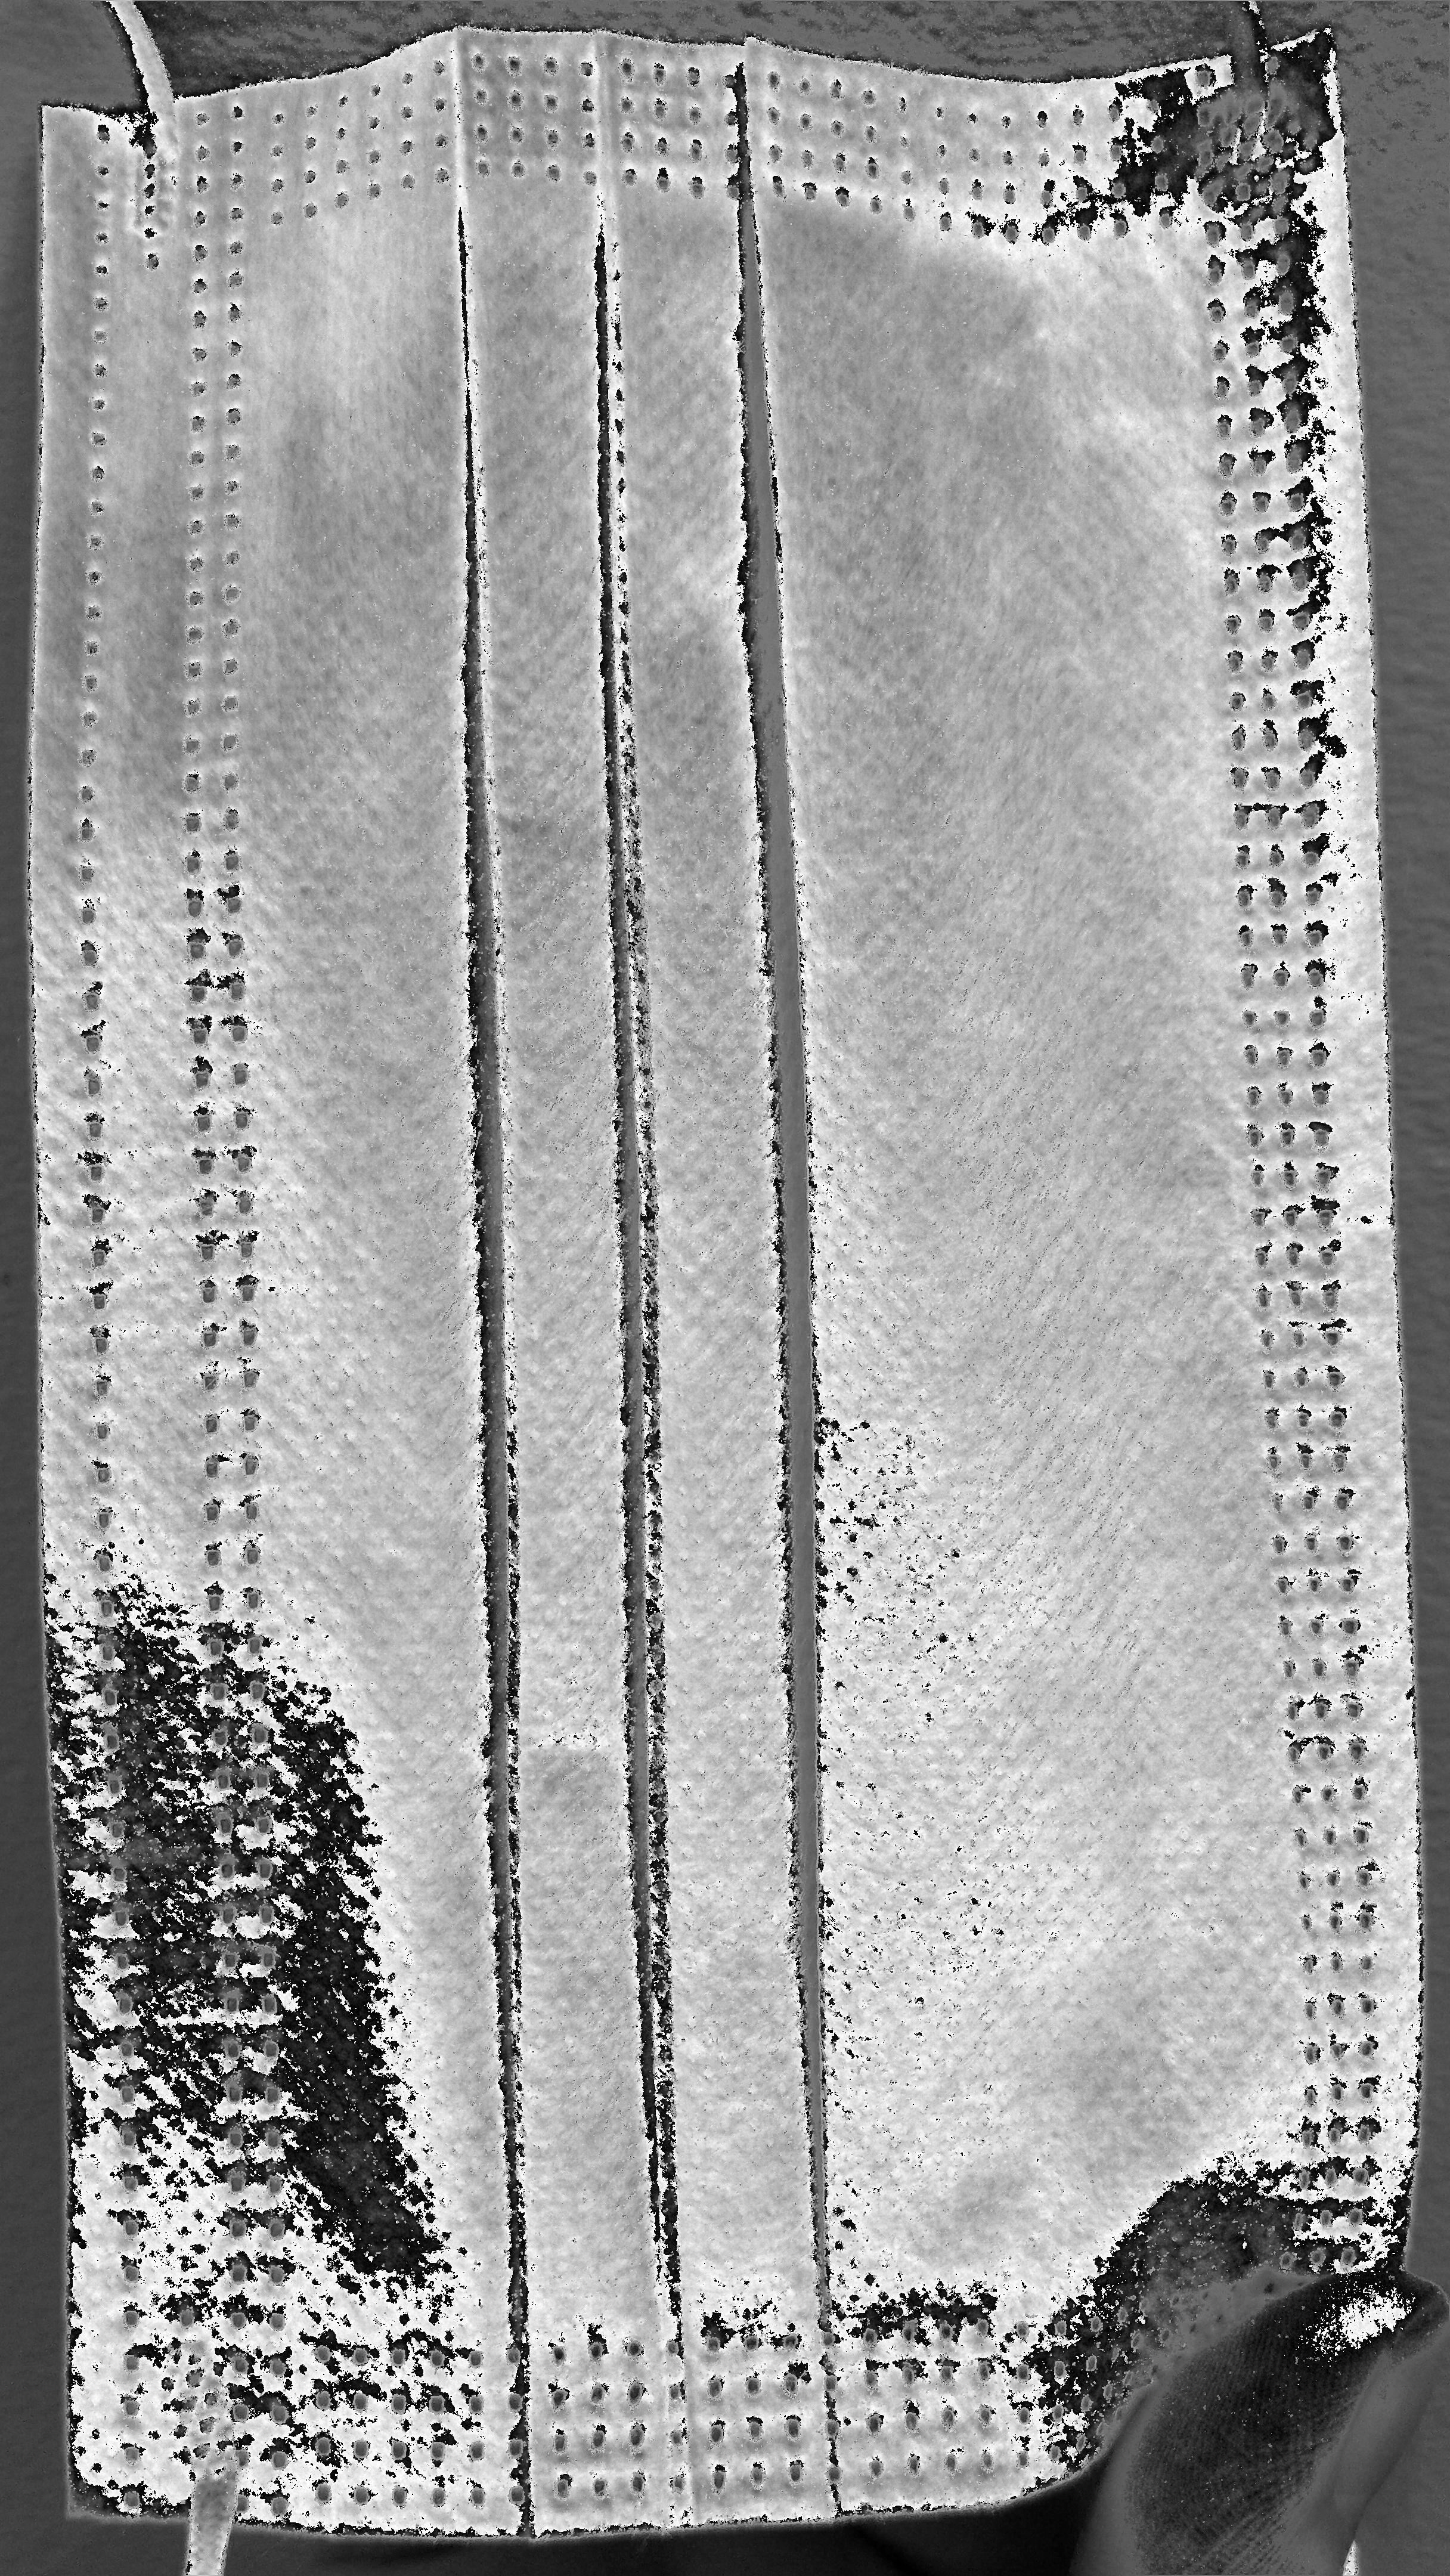Low GSM: (290, 265, 1171, 2309)
